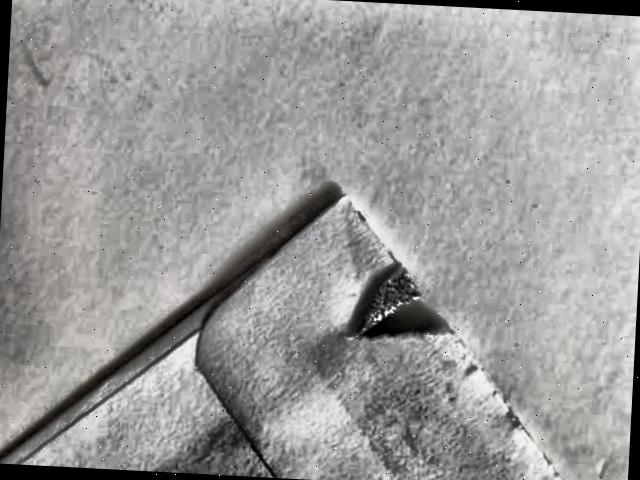Paper: (0, 167, 587, 480)
